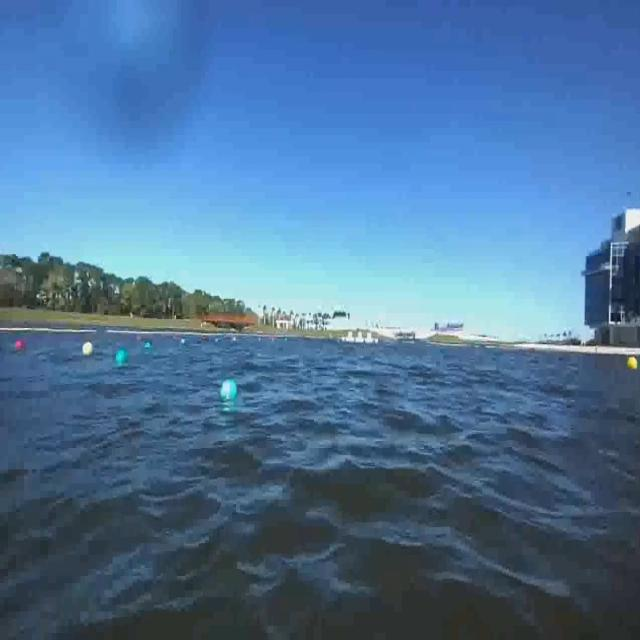green-buoy: (220, 377, 237, 400), (117, 349, 131, 367)
red-buoy: (12, 335, 27, 354)
yellow-buoy: (627, 354, 639, 371), (82, 342, 93, 358)
